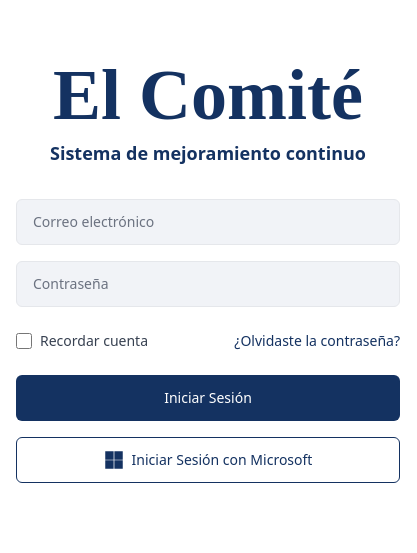
it: Login Page › should show error on Microsoft login click
This screenshot has width=417, height=553.
Click the button "Iniciar Sesión con Microsoft".
click(208, 460)  # box [16, 437, 400, 483]
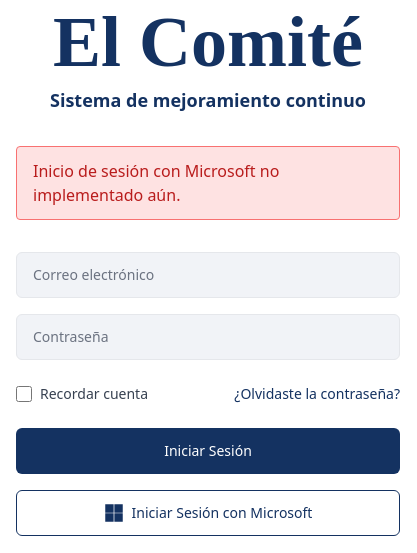
Expected: the text "Inicio de sesión con Microsoft no implementado aún." is shown, [33, 160, 279, 206]
